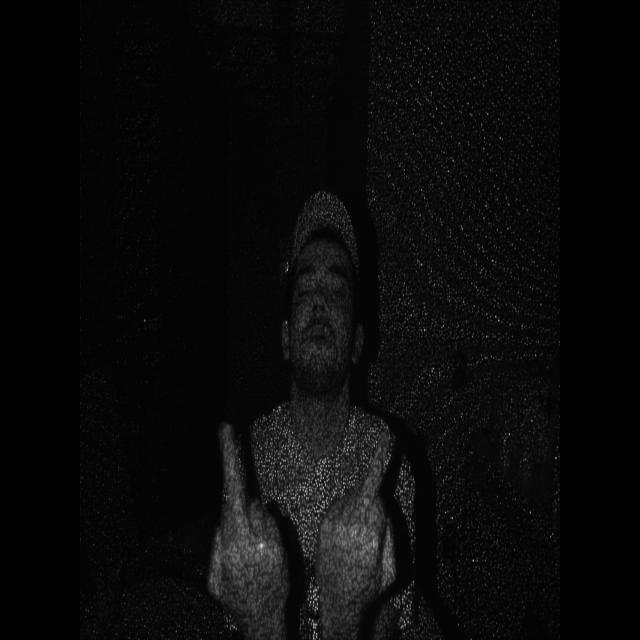FUCK YOU: (210, 383, 304, 640), (313, 408, 408, 630)
